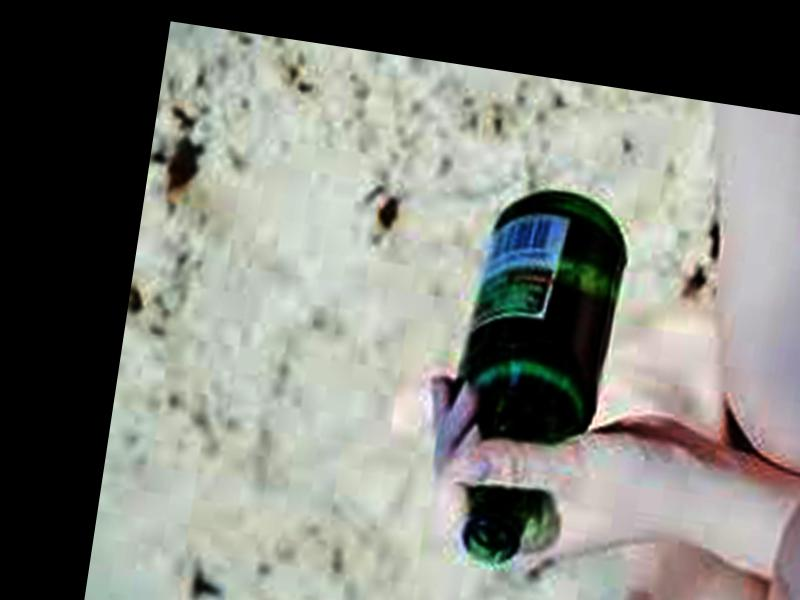Beer: (434, 181, 636, 579)
